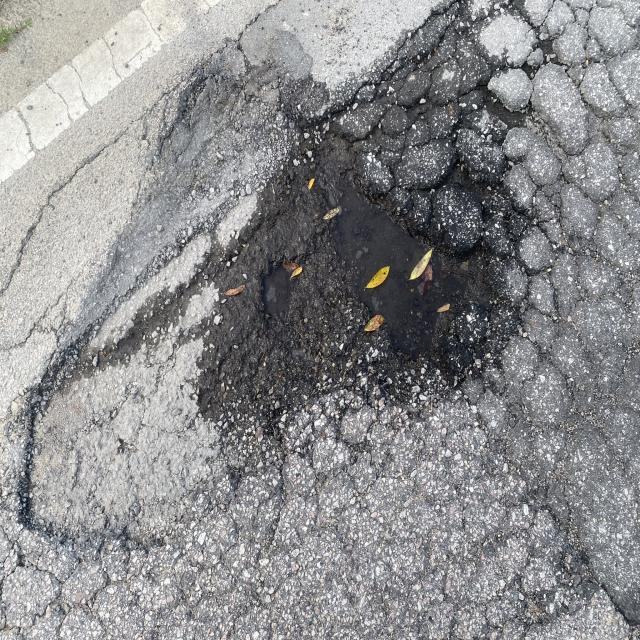Pothole: (188, 43, 560, 434), (0, 290, 154, 599)
